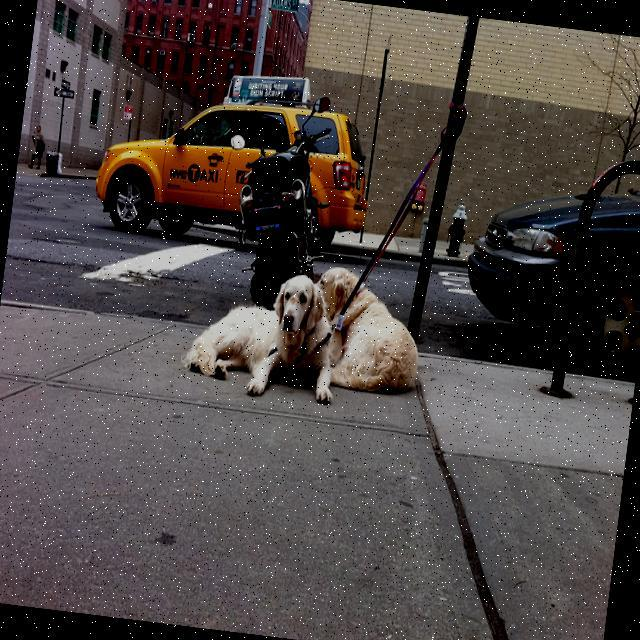fire_hydrant: (445, 198, 469, 256)
